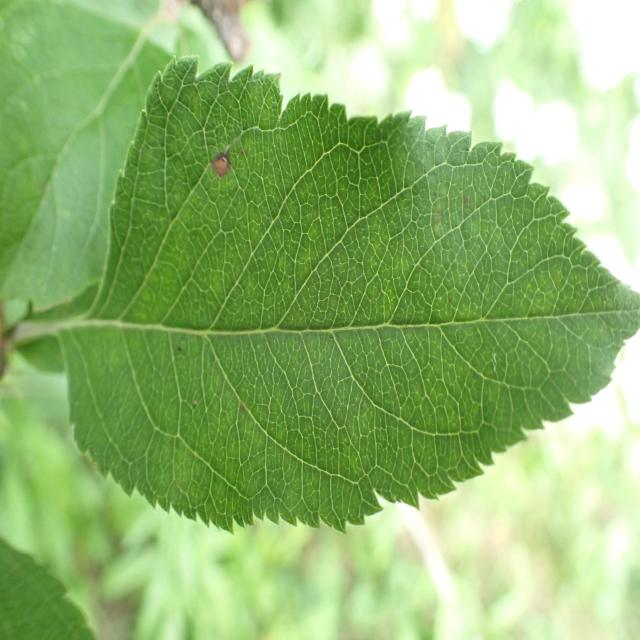Black Rot: (186, 134, 254, 188)
